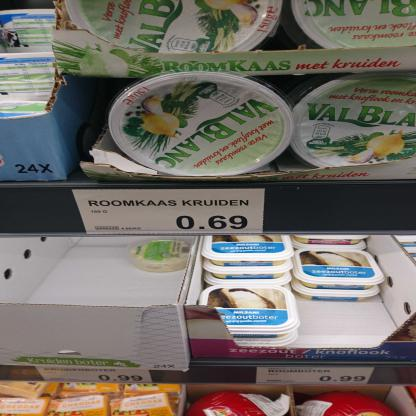prtg: (71, 190, 266, 235)
